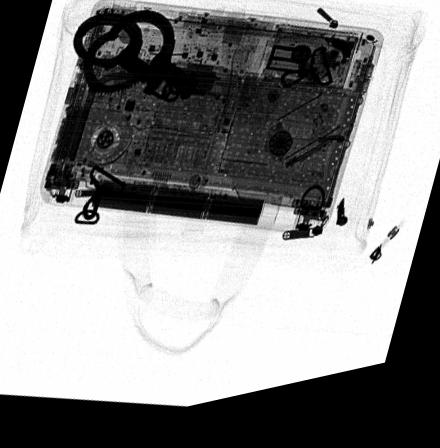HandCuffs: (71, 14, 203, 113)
